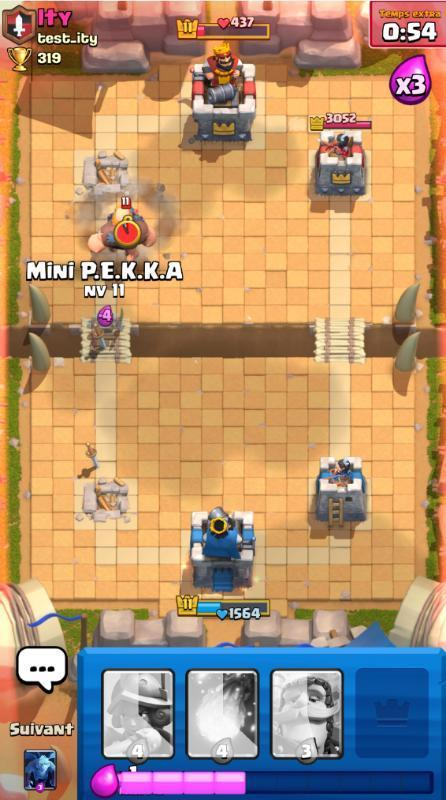player_giant: (86, 206, 158, 259)
